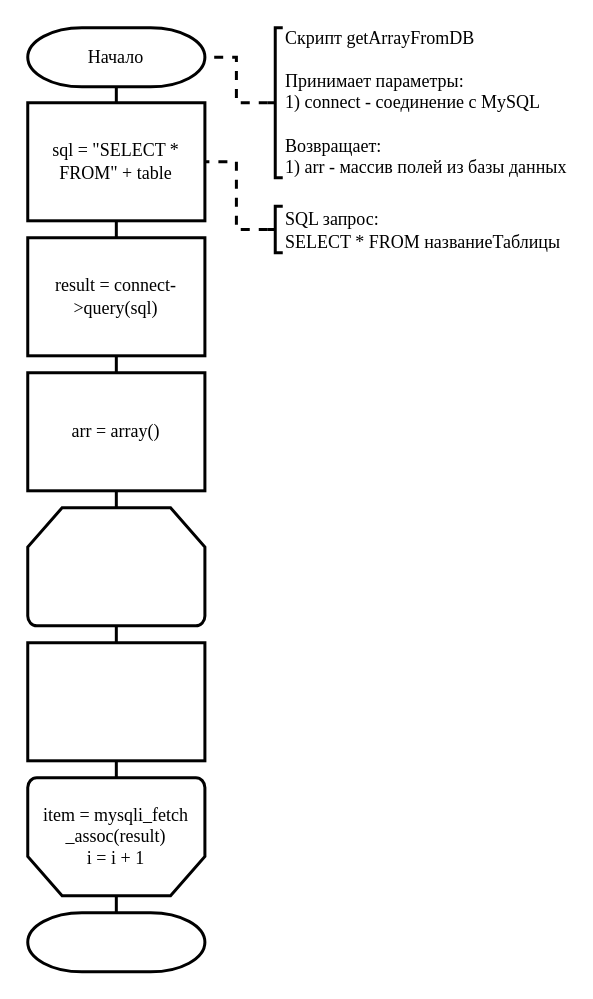
This 593x999 diagram has some shape labels left out. Each missing label, with the centre of its shape:
arr[i] = item: pixel 116 701
item = mysqli_fetch _assoc(result) i = 0 item != "": pixel 116 566
Конец: pixel 116 941
